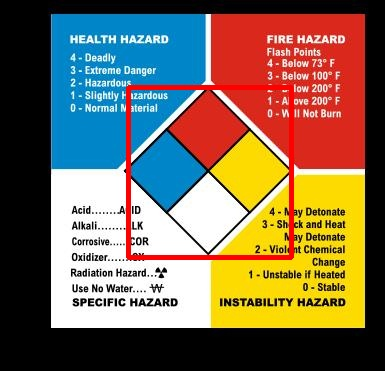nfpa: (128, 87, 291, 257)
